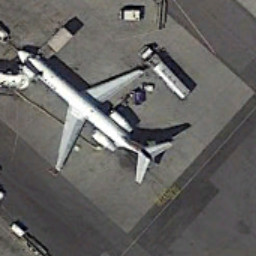Airplane: (12, 37, 180, 190)
